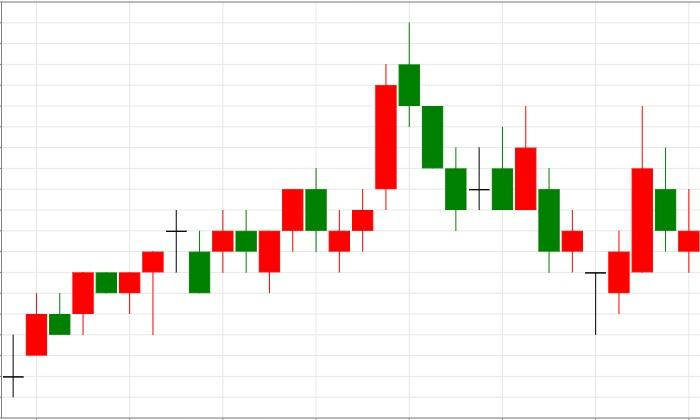hanging_man_fall: (2, 251, 164, 397)
three_black_crows_fall: (329, 24, 466, 272)
